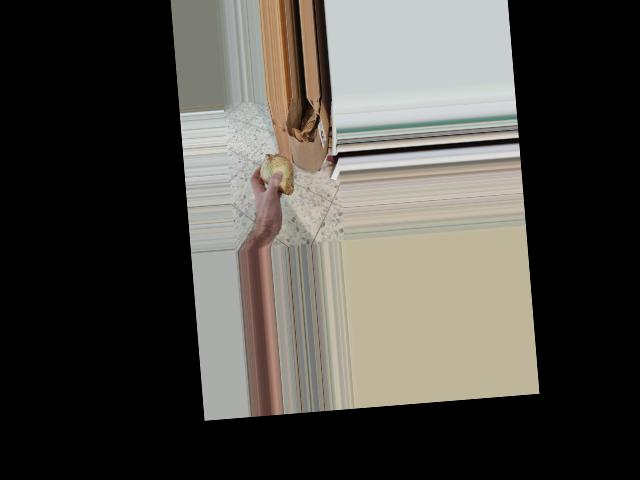onion: (253, 150, 298, 200)
